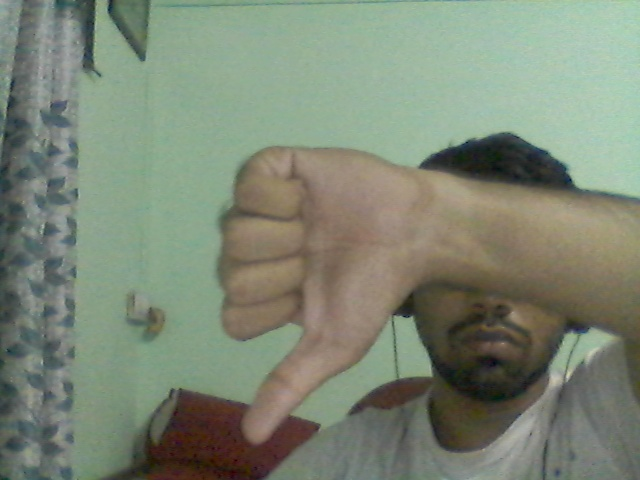No: (184, 97, 489, 469)
